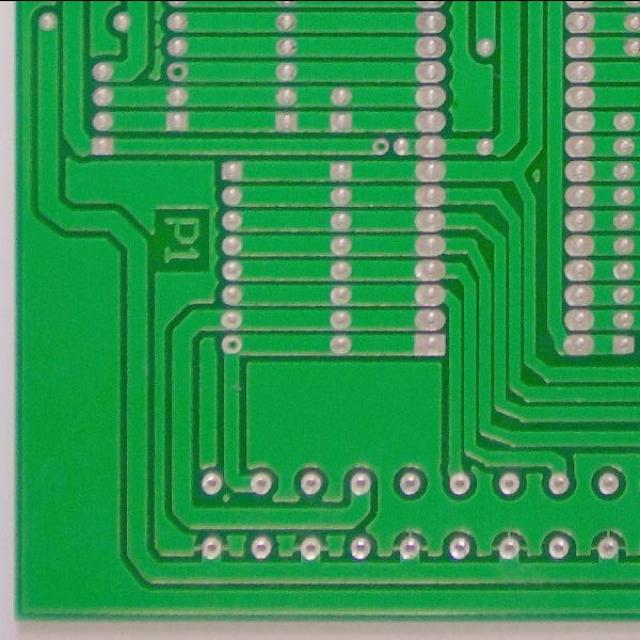Missing_Hole: (164, 59, 192, 83), (219, 332, 244, 355), (370, 135, 392, 156)
